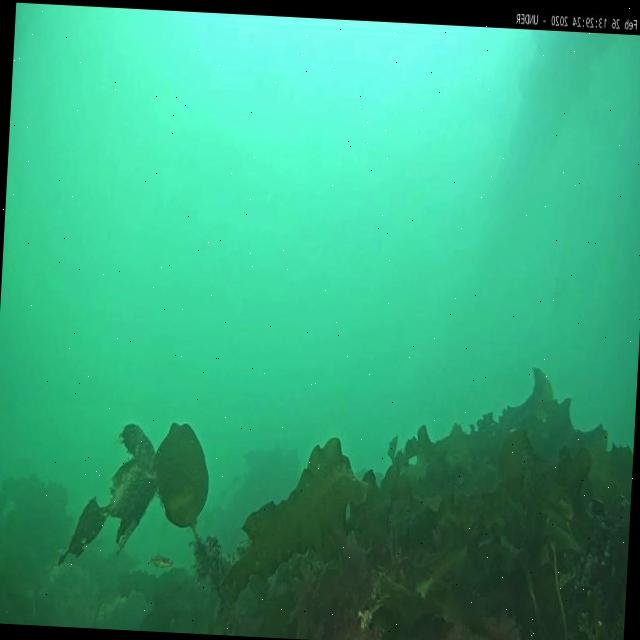fish: (150, 552, 176, 570)
